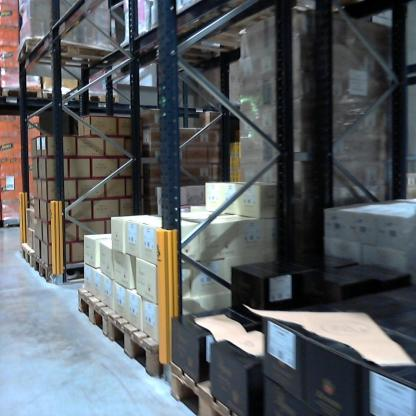pallet: (107, 305, 182, 386), (7, 35, 124, 72), (165, 366, 242, 415), (33, 248, 113, 289), (69, 282, 112, 341), (1, 88, 40, 106), (82, 89, 123, 106), (38, 87, 81, 103), (21, 240, 34, 272)
